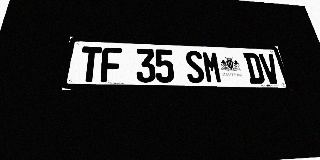3: (136, 48, 156, 83)
5: (155, 49, 175, 83)
D: (243, 53, 266, 84)
F: (100, 47, 122, 82)
M: (201, 51, 223, 83)
S: (184, 50, 206, 83)
T: (78, 46, 102, 82)
V: (258, 53, 282, 84)
